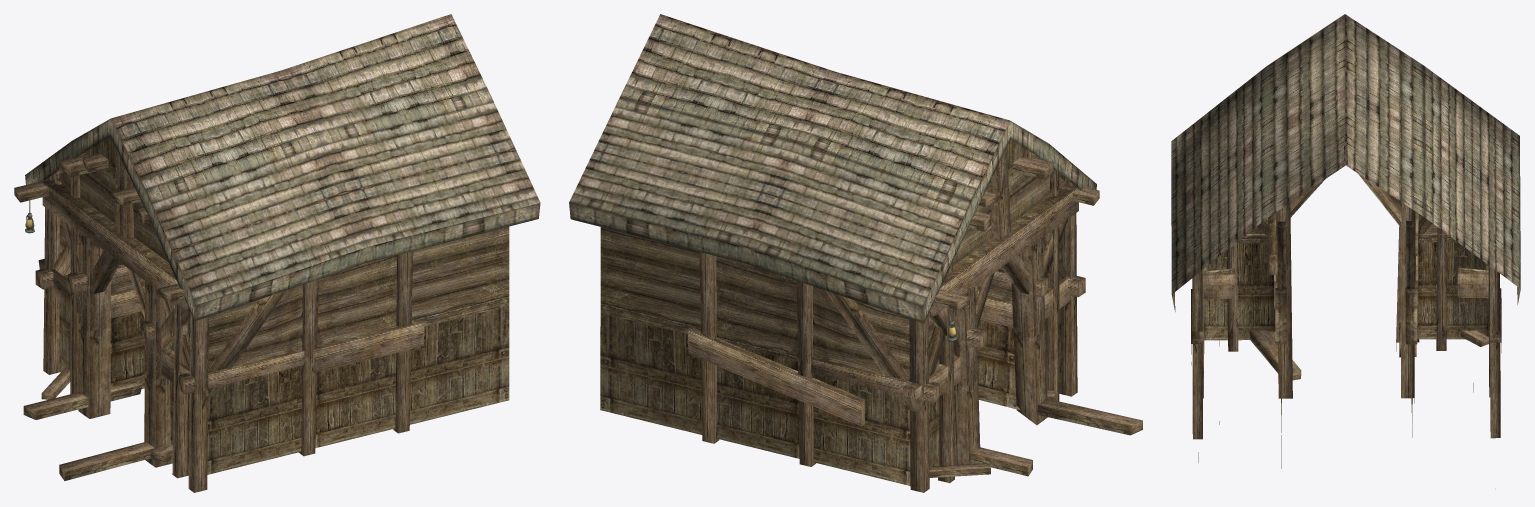
Rendered from S_Build_West087.FBX.
3 views of the same model, side by side, from view 1: azimuth 30°, elevation 25°; view 2: azimuth 150°, elevation 25°; view 3: azimuth 270°, elevation 25° (orthographic). The views are drawn at different scales.
Parts seen in each view (by area): view 1: S_Build_West087; view 2: S_Build_West087; view 3: S_Build_West087.
Part boxes in pixels (x1=…): S_Build_West087: x1=14, y1=14, x2=540, y2=492; S_Build_West087: x1=569, y1=14, x2=1142, y2=492; S_Build_West087: x1=1171, y1=14, x2=1520, y2=468.
Size of the model in its own units: 1190 by 815 by 899.
